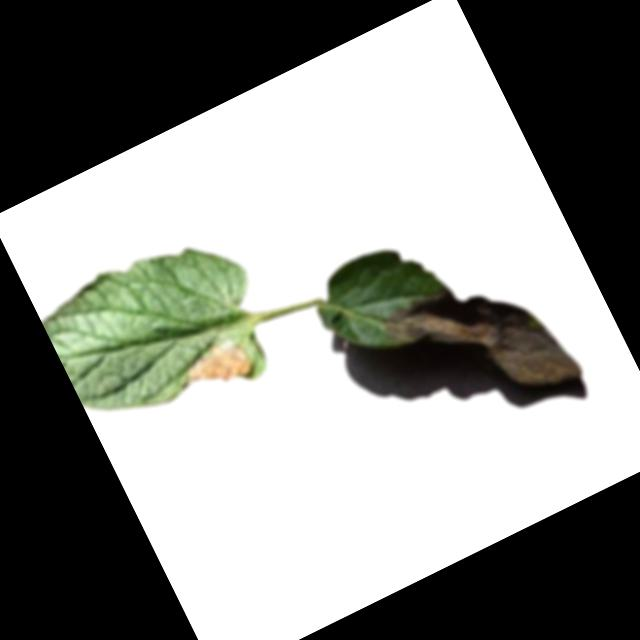Late_blight: (375, 244, 584, 445), (181, 336, 258, 402)
